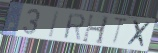3: (21, 8, 41, 37)
H: (81, 12, 111, 46)
I: (46, 10, 62, 40)
R: (62, 12, 86, 42)
T: (110, 16, 130, 47)
X: (126, 19, 153, 49)
